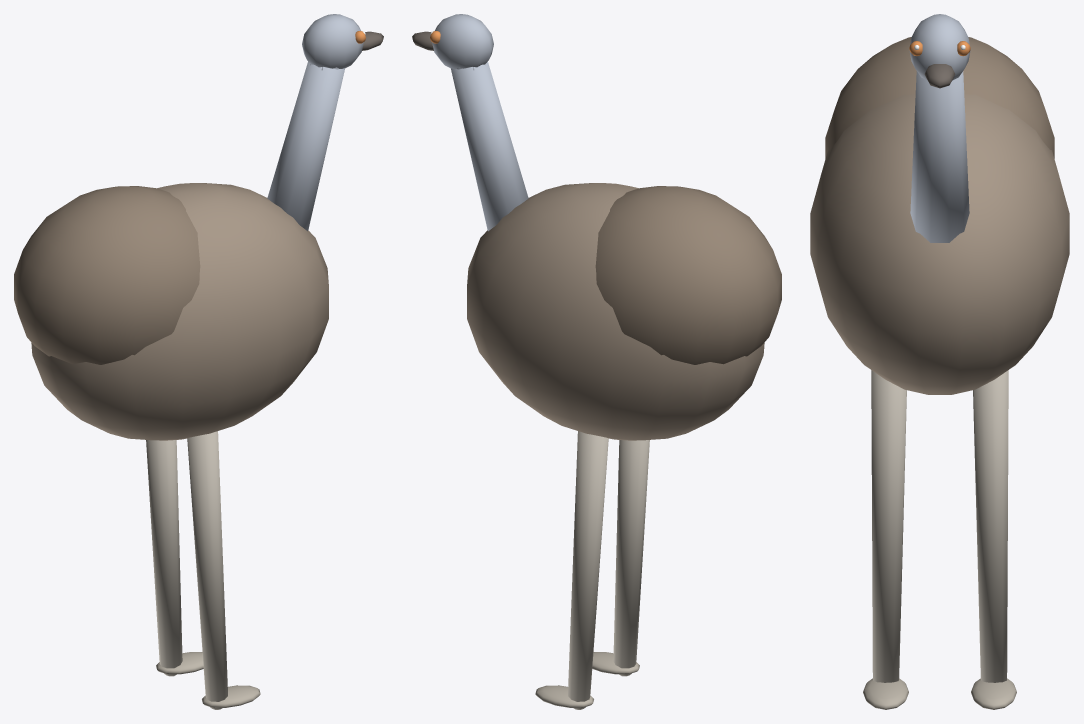
The model's file is emu.glb.
The picture shows the model from 3 angles, left to right: view 1: azimuth 30°, elevation 25°; view 2: azimuth 150°, elevation 25°; view 3: azimuth 270°, elevation 25°; orthographic projection. The views are drawn at different scales.
Visible parts, largest first — view 1: e.006, e; view 2: e.006, e; view 3: e.006, e.
Boxes of the visible parts, box(x1,y1,x2,y2) form: e.006: box(14, 61, 344, 709); e: box(302, 14, 383, 68); e.006: box(451, 61, 781, 709); e: box(412, 14, 493, 68); e.006: box(810, 37, 1069, 709); e: box(909, 14, 970, 88).
Size of the model in its own units: 1.26 by 2.17 by 0.6731.
